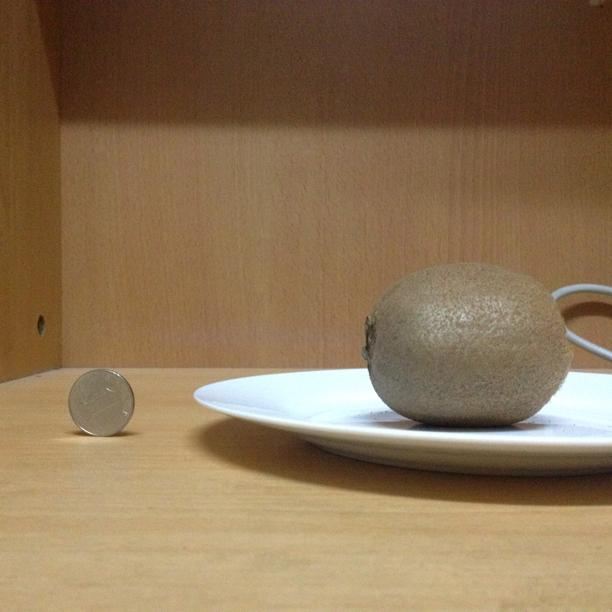coin: (67, 372, 134, 436)
qiwi: (359, 266, 571, 426)
